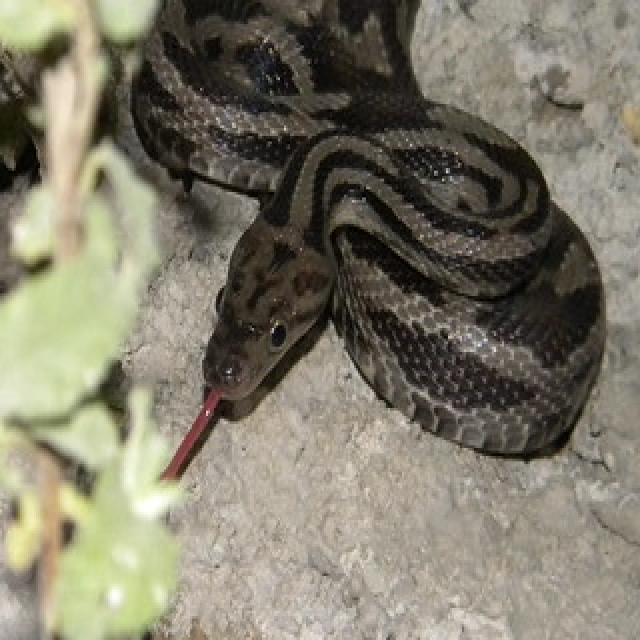snake: (126, 0, 640, 472)
